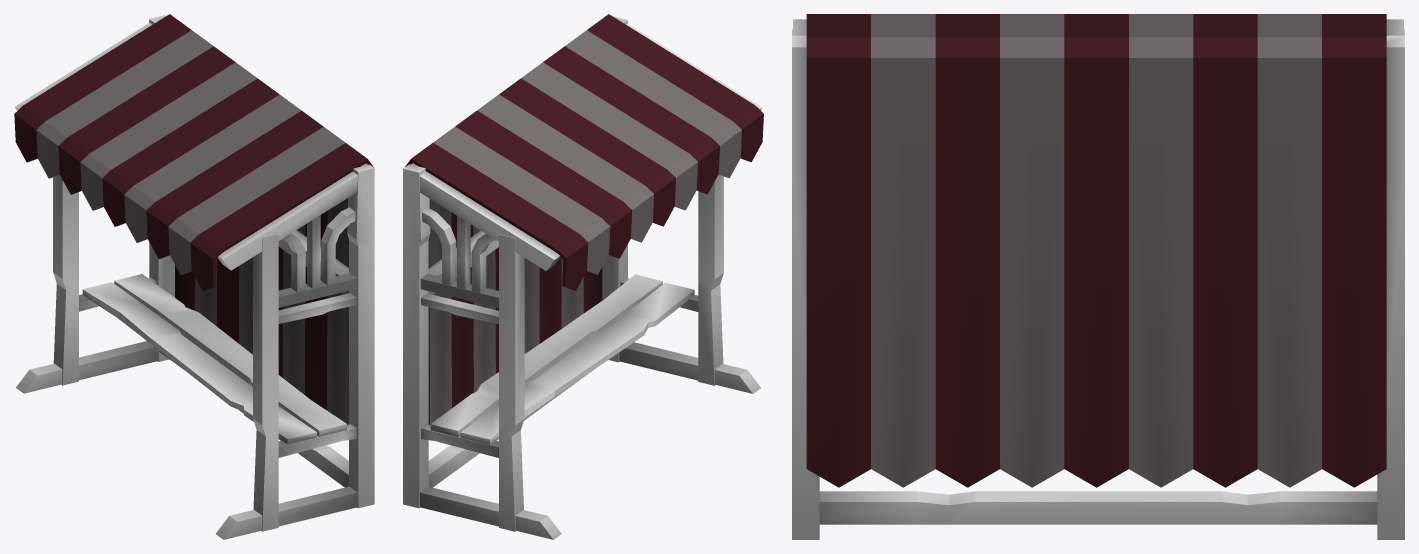
File: pq_etal_etroit.glb
The picture shows the model from 3 angles, left to right: view 1: azimuth 30°, elevation 25°; view 2: azimuth 150°, elevation 25°; view 3: azimuth 270°, elevation 25°; orthographic projection. The views are drawn at different scales.
Visible parts, largest first — view 1: MarketStand_2; view 2: MarketStand_2; view 3: MarketStand_2.
Boxes of the visible parts, left/top/right/bottom form: MarketStand_2: left=14, top=14, right=374, bottom=539; MarketStand_2: left=403, top=14, right=763, bottom=539; MarketStand_2: left=792, top=14, right=1404, bottom=539.
Size of the model in its own units: 1.19 by 2.4 by 2.66.
